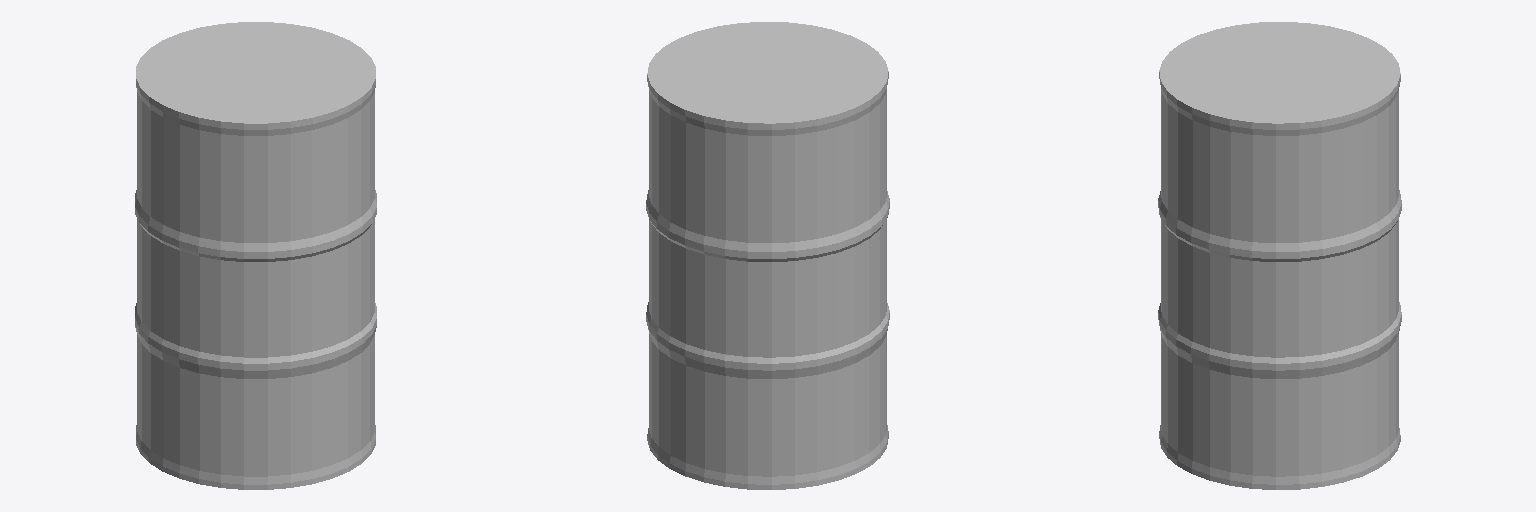
Rendered from Oildrum.obj.
3 views of the same model, side by side, from view 1: azimuth 30°, elevation 25°; view 2: azimuth 150°, elevation 25°; view 3: azimuth 270°, elevation 25° (orthographic).
Visible parts, largest first — view 1: Oildrum-ref; view 2: Oildrum-ref; view 3: Oildrum-ref.
Part boxes in pixels (x1,y1,x2,y2): Oildrum-ref: (135,22,376,489); Oildrum-ref: (646,22,889,489); Oildrum-ref: (1158,22,1401,489).
Bounding box in the file's own units: 0.6966 × 1.16 × 0.6966.